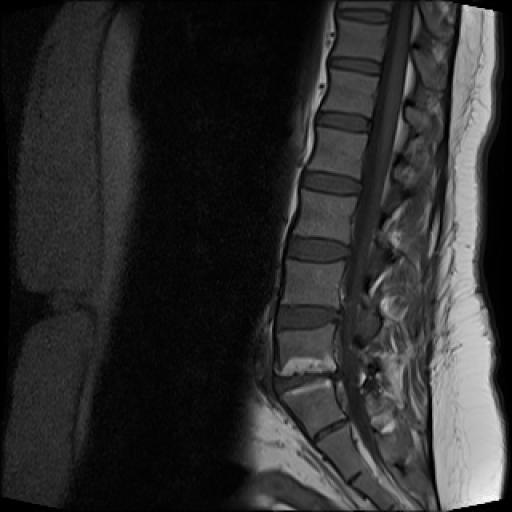L1: (322, 67, 377, 116)
L2: (307, 126, 367, 178)
L3: (293, 188, 357, 244)
L4: (282, 261, 344, 306)
L5: (277, 323, 336, 376)
S1: (279, 375, 346, 436)
